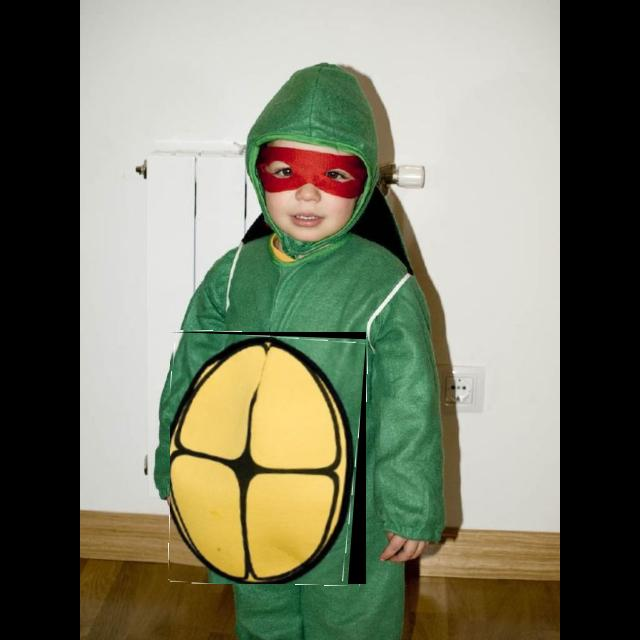Football: (170, 332, 366, 584)
